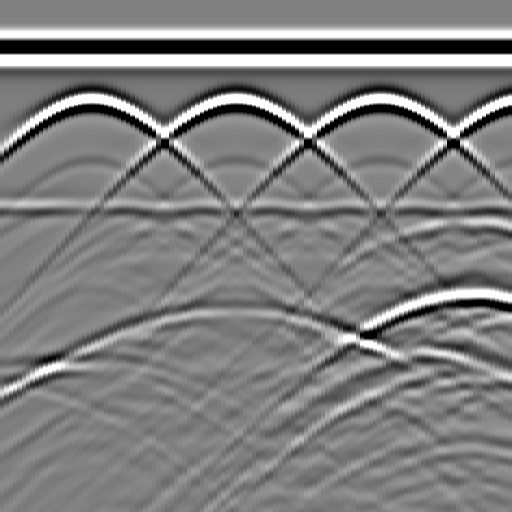grout_surface: (1, 195, 512, 225)
rebar: (69, 82, 109, 122), (214, 82, 254, 122), (358, 82, 398, 122), (502, 82, 512, 122)
rock_surface: (1, 310, 511, 385)
water_void: (440, 200, 500, 240)
